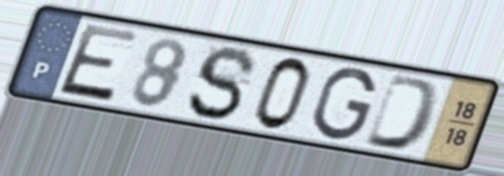0: (252, 56, 314, 131)
8: (128, 37, 189, 109)
D: (360, 71, 445, 154)
E: (53, 21, 143, 105)
G: (309, 66, 379, 143)
S: (183, 43, 261, 124)
